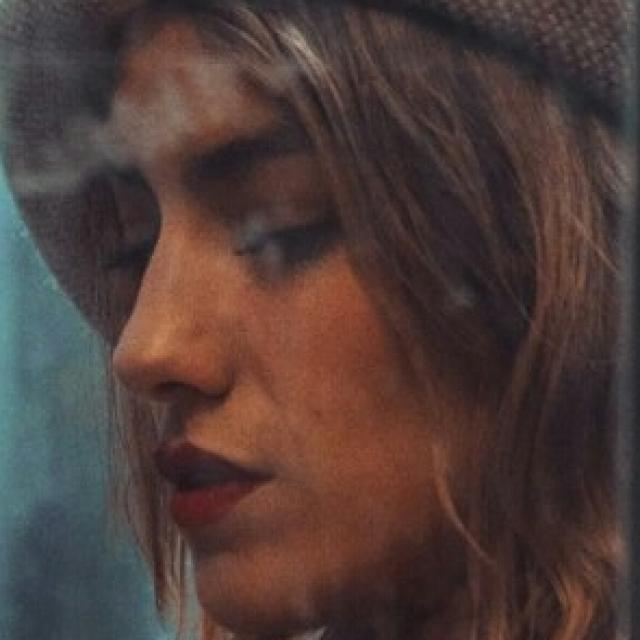front: (103, 177, 379, 551)
